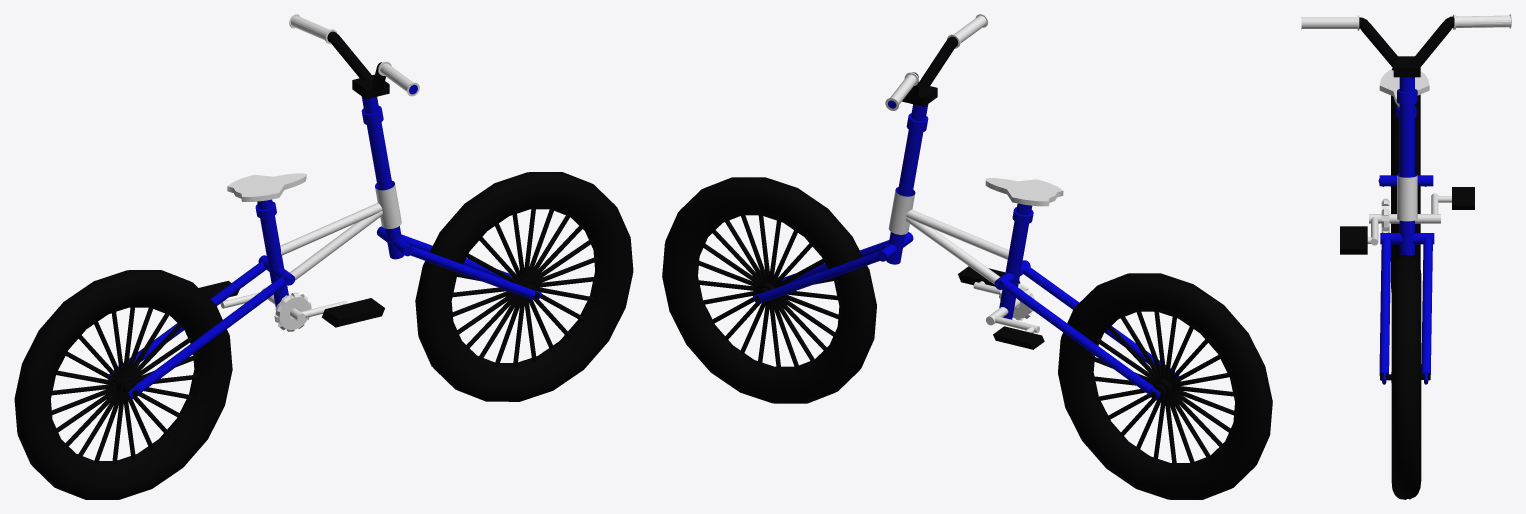
The model's file is Bicicle.fbx.
The picture shows the model from 3 angles, left to right: view 1: azimuth 30°, elevation 25°; view 2: azimuth 150°, elevation 25°; view 3: azimuth 270°, elevation 25°; orthographic projection.
Parts seen in each view (by area): view 1: pTorus4, pTorus3, pCylinder34, pCube1; view 2: pTorus4, pTorus3, pCylinder34, pCube2; view 3: pCylinder34, pTorus3, pTorus4, pCube1, pCube2.
Boxes of the visible parts, x1=… form: pTorus4: x1=14, y1=270, x2=232, y2=499; pTorus3: x1=415, y1=172, x2=633, y2=401; pCylinder34: x1=108, y1=14, x2=541, y2=399; pCube1: x1=321, y1=298, x2=384, y2=327; pTorus4: x1=1058, y1=273, x2=1272, y2=499; pTorus3: x1=662, y1=177, x2=876, y2=403; pCylinder34: x1=753, y1=14, x2=1180, y2=400; pCube2: x1=993, y1=326, x2=1044, y2=349; pCylinder34: x1=1301, y1=14, x2=1511, y2=384; pTorus3: x1=1380, y1=254, x2=1430, y2=499; pTorus4: x1=1379, y1=68, x2=1420, y2=292; pCube1: x1=1340, y1=226, x2=1367, y2=254; pCube2: x1=1452, y1=187, x2=1474, y2=209.
Bounding box in the file's own units: 8.68 × 5.32 × 2.58.
